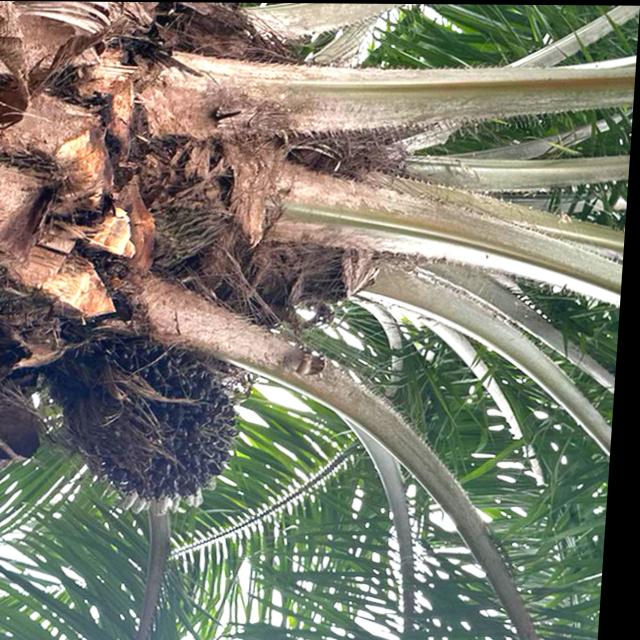unripe: (58, 325, 253, 505)
